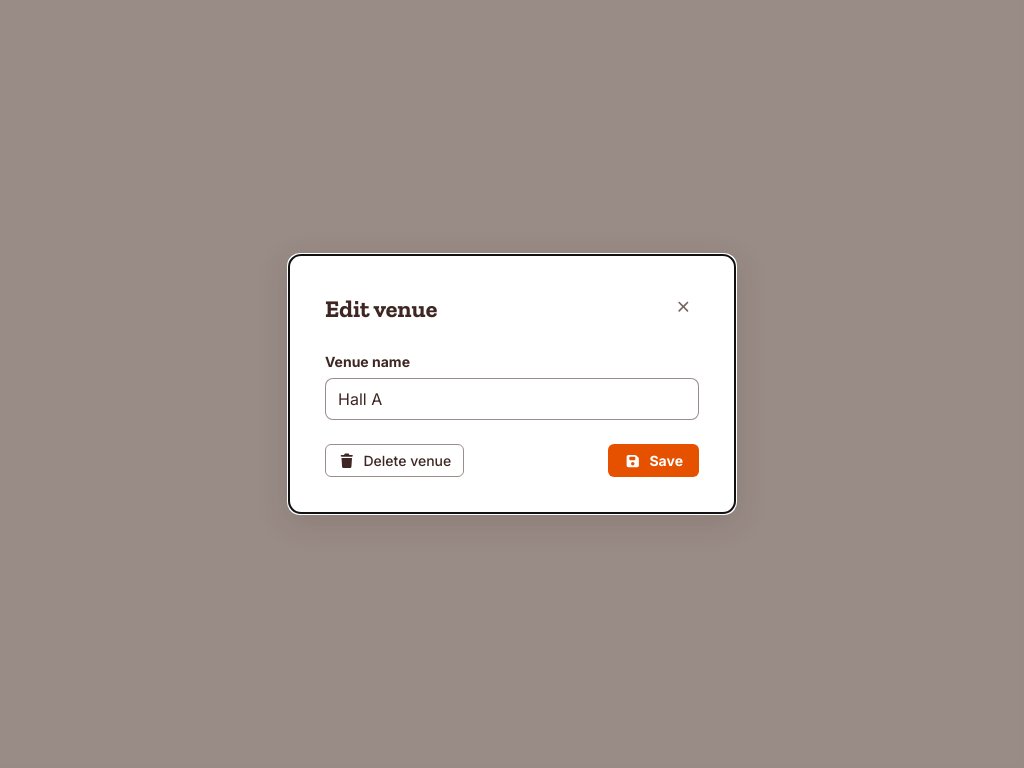
Scenario: VenueEditModal › shows validation for empty name
The width and height of the screenshot is (1024, 768).
Clear the field labelled "Venue name": coordinates (512, 399) [325,378,699,420]
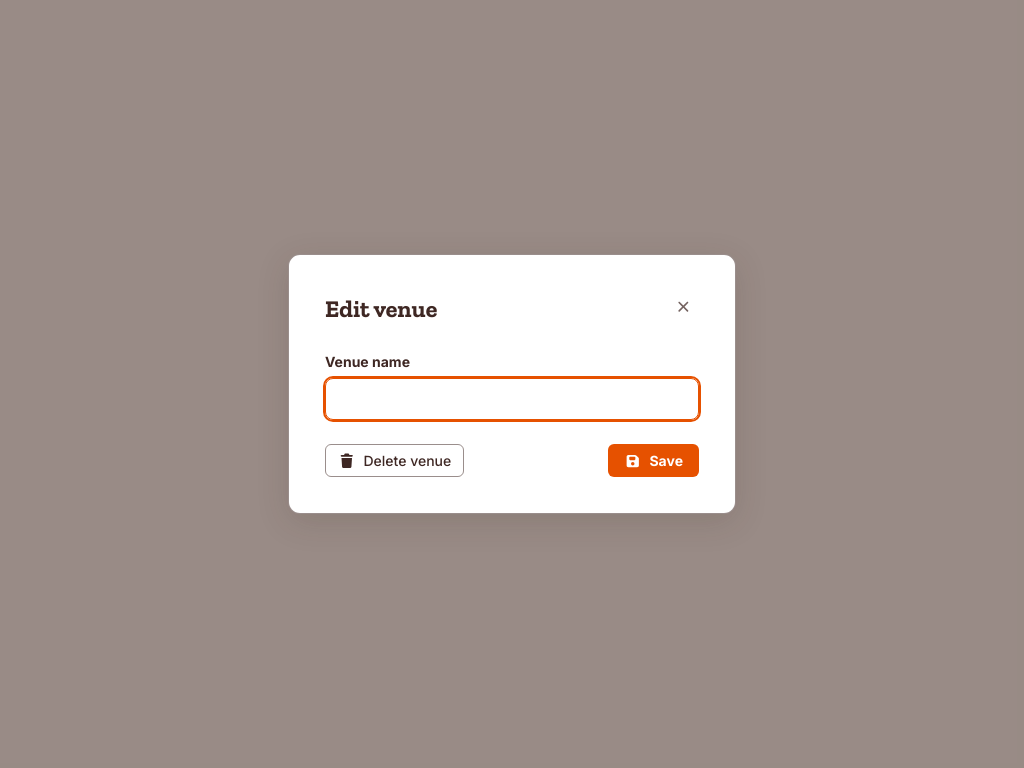
Click the button with test id "venue-edit-save": coordinates (654, 460) [608,444,699,477]
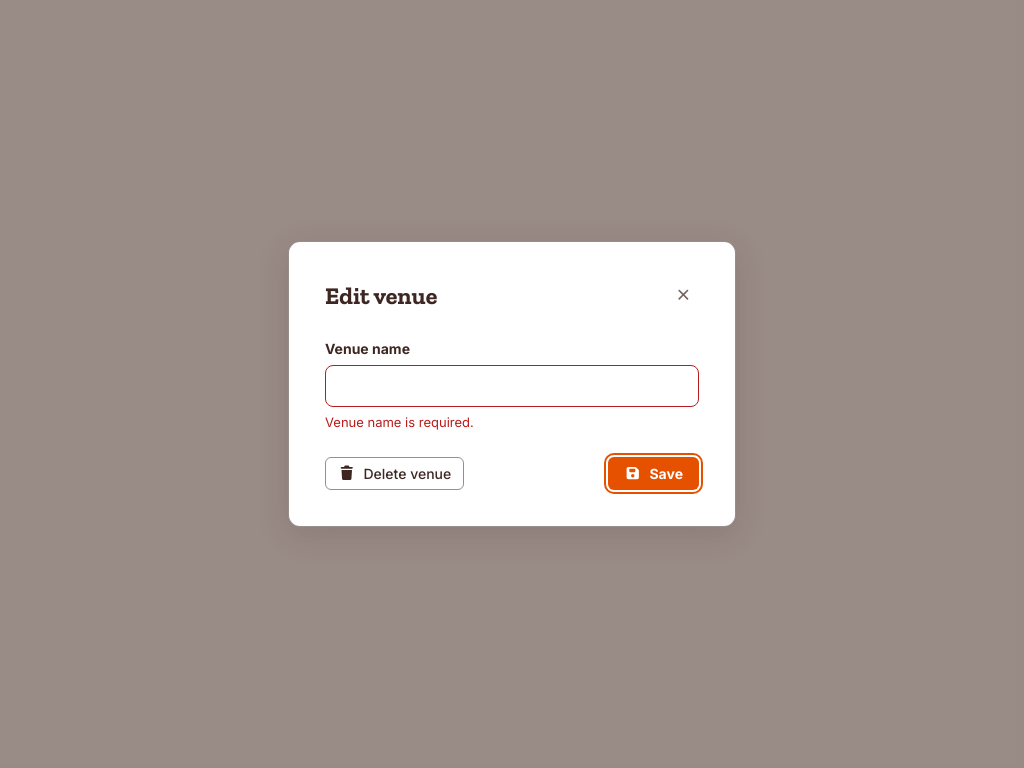
Expected: the text "Venue name is required." is shown, [325,414,474,430]
